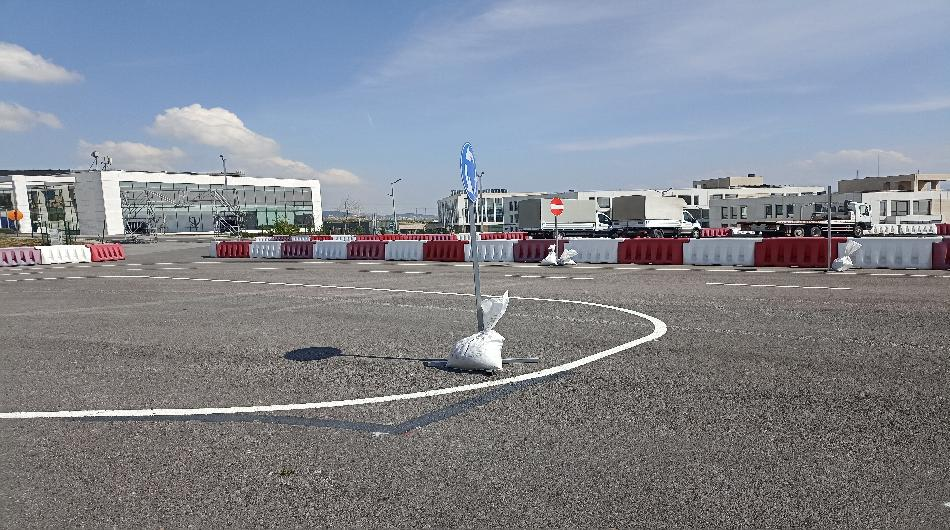ada: (456, 142, 481, 205)
girilmez: (548, 198, 565, 220)
